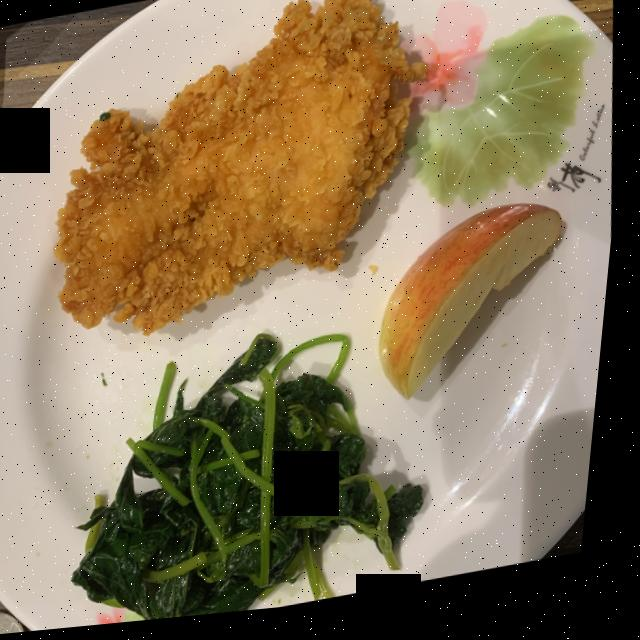apple -sliced-: (386, 214, 567, 407)
coin: (0, 612, 38, 636)
fried chicken cutlet: (59, 0, 428, 338)
sweet potato leaves: (83, 340, 433, 624)
